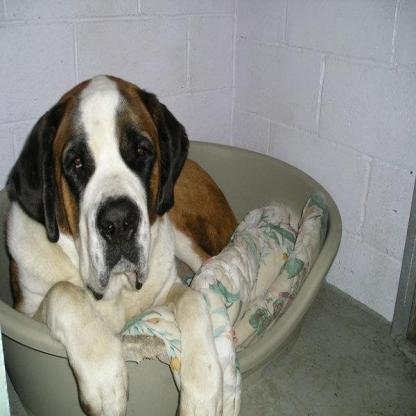Saint_Bernard: (3, 71, 241, 414)
